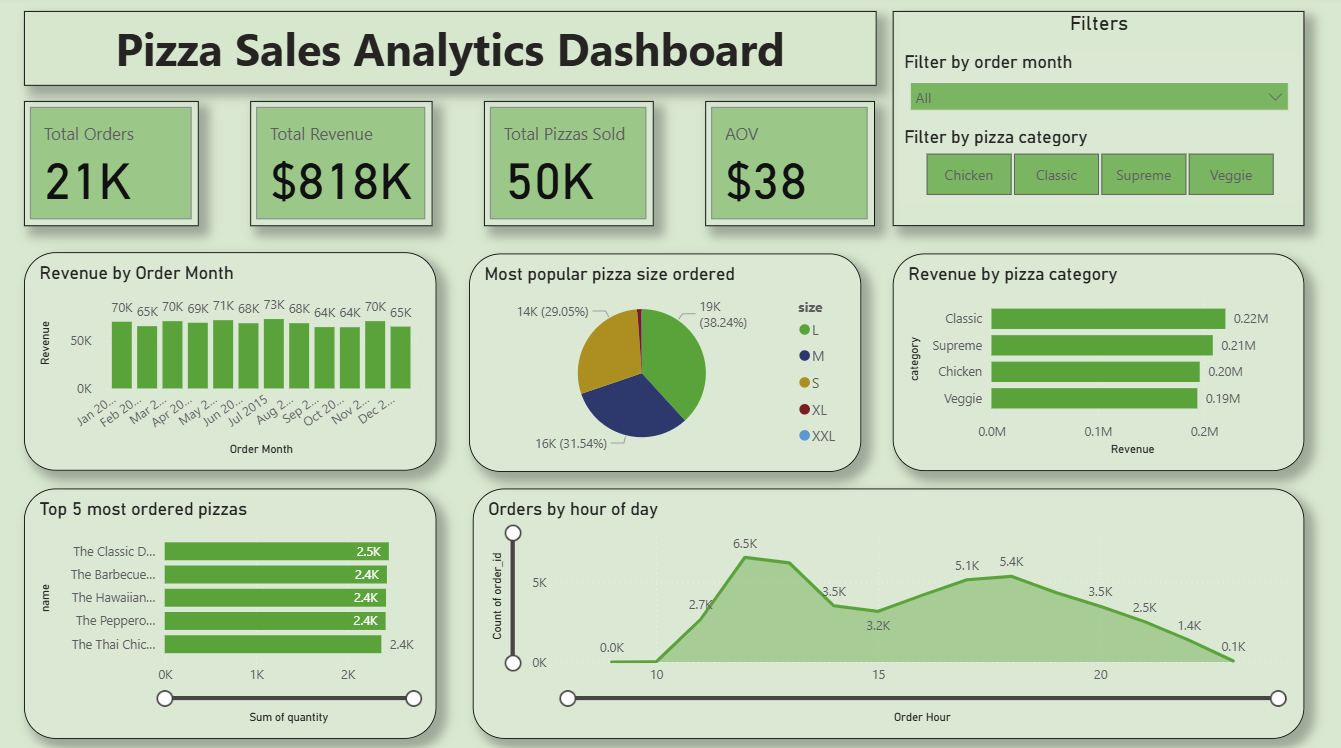

This screenshot's page, from the dashboard's own definition file:
{"tool":"powerbi","page":{"name":"Page 1","canvas":[1280,720],"ordinal":0},"visuals":[{"type":"shape","title":"Filters","box":[851.2,14.3,391.7,204.8],"z":0},{"type":"cardVisual","fields":{"Data":["order_details.Total  Orders"]},"box":[23.8,100.5,166.7,119],"z":1000},{"type":"cardVisual","fields":{"Data":["order_details.Total Revenue"]},"box":[239.3,100,173.8,119.5],"z":2000},{"type":"cardVisual","fields":{"Data":["order_details.Total Pizzas Sold"]},"box":[461.9,100.5,161.9,119],"z":3000},{"type":"cardVisual","fields":{"Data":["order_details.AOV"]},"box":[672.6,100.5,161.9,119],"z":4000},{"type":"barChart","title":"Top 5 most ordered pizzas","fields":{"Y":["Sum(order_details.quantity)"],"Category":["pizza_types.name"]},"box":[23.8,469.1,392.9,238.1],"z":5000},{"type":"pieChart","title":"Most popular pizza size ordered","fields":{"Category":["pizzas.size"],"Y":["Sum(order_details.quantity)"]},"box":[447,244.6,373.8,208.3],"z":6000},{"type":"barChart","title":"Revenue by pizza category","fields":{"Category":["pizza_types.category"],"Y":["order_details.Revenue"]},"box":[851.2,245.2,391.7,207.1],"z":7000},{"type":"lineChart","title":"Orders by hour of day","fields":{"Category":["orders.Order Hour"],"Y":["CountNonNull(order_details.order_id)"]},"box":[451.2,469.1,791.7,238.1],"z":8000},{"type":"clusteredColumnChart","title":"Revenue by Order Month","fields":{"Category":["orders.Oder Month"],"Y":["order_details.Revenue"]},"box":[23.8,244,392.9,208.3],"z":9000},{"type":"textbox","box":[23.6,13.9,811.8,70.9],"z":10000},{"type":"slicer","title":"Filter by pizza category","fields":{"Values":["pizza_types.category"]},"box":[857.1,123.8,381,72.6],"z":11000},{"type":"slicer","title":"Filter by order month","fields":{"Values":["orders.Oder Month"]},"box":[857.1,52.4,381,71.4],"z":12000}]}

Visuals, with their boxes in screenshot pixels (x1, y1, x2, y2), scaled from the page's 1280x720 canvas onto the 1341x748 screenshot:
"Filters" shape: <bbox>892, 15, 1302, 228</bbox>
cardVisual - order_details.Total  Orders: <bbox>25, 104, 200, 228</bbox>
cardVisual - order_details.Total Revenue: <bbox>251, 104, 433, 228</bbox>
cardVisual - order_details.Total Pizzas Sold: <bbox>484, 104, 654, 228</bbox>
cardVisual - order_details.AOV: <bbox>705, 104, 874, 228</bbox>
"Top 5 most ordered pizzas" barChart: <bbox>25, 487, 437, 735</bbox>
"Most popular pizza size ordered" pieChart: <bbox>468, 254, 860, 471</bbox>
"Revenue by pizza category" barChart: <bbox>892, 255, 1302, 470</bbox>
"Orders by hour of day" lineChart: <bbox>473, 487, 1302, 735</bbox>
"Revenue by Order Month" clusteredColumnChart: <bbox>25, 253, 437, 470</bbox>
textbox: <bbox>25, 14, 875, 88</bbox>
"Filter by pizza category" slicer: <bbox>898, 129, 1297, 204</bbox>
"Filter by order month" slicer: <bbox>898, 54, 1297, 129</bbox>
